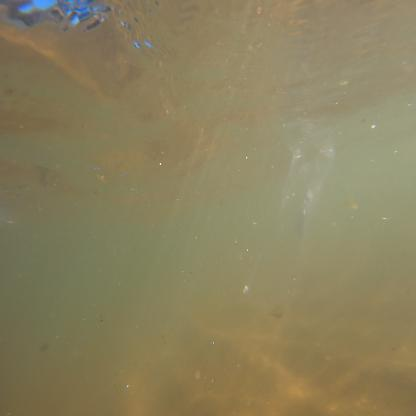Rác: (262, 128, 334, 317)
